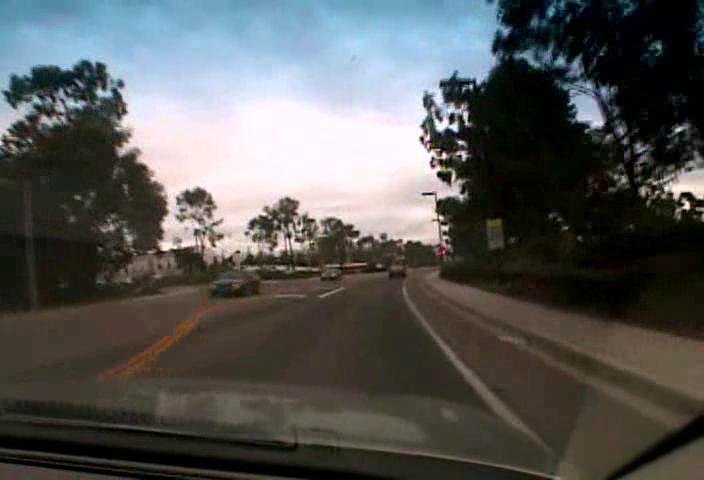schoolSpeedLimit25: (485, 218, 504, 251)
